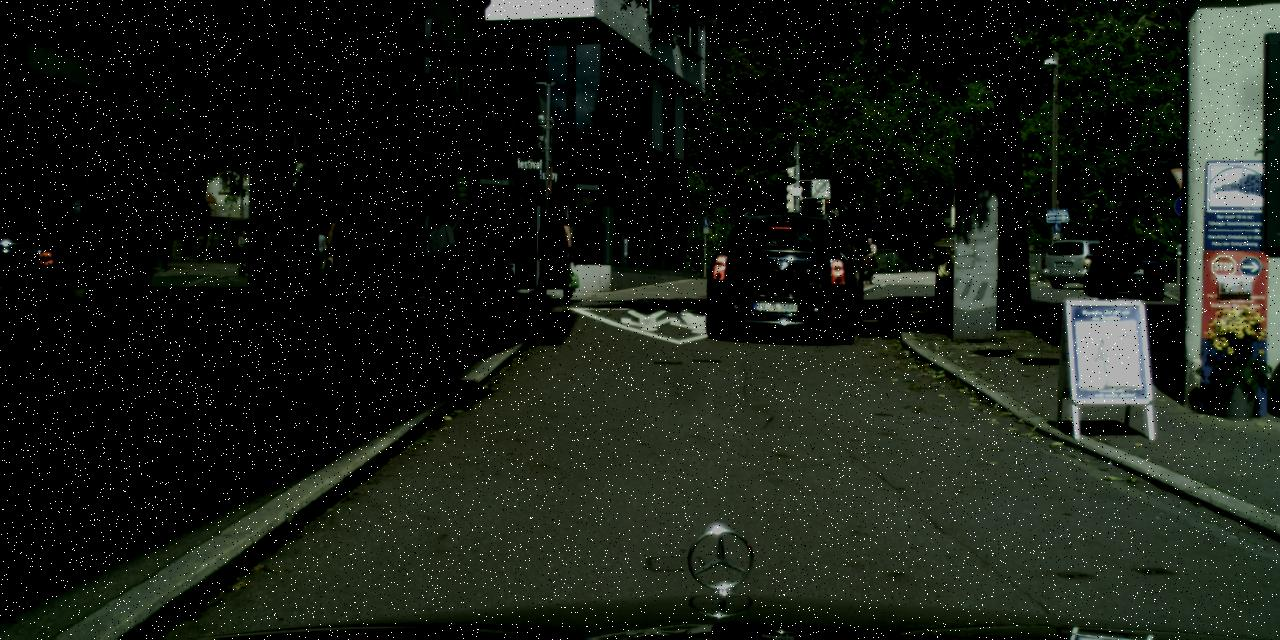ped: (418, 180, 477, 324), (1094, 205, 1144, 328), (531, 196, 573, 302), (860, 237, 877, 279)
